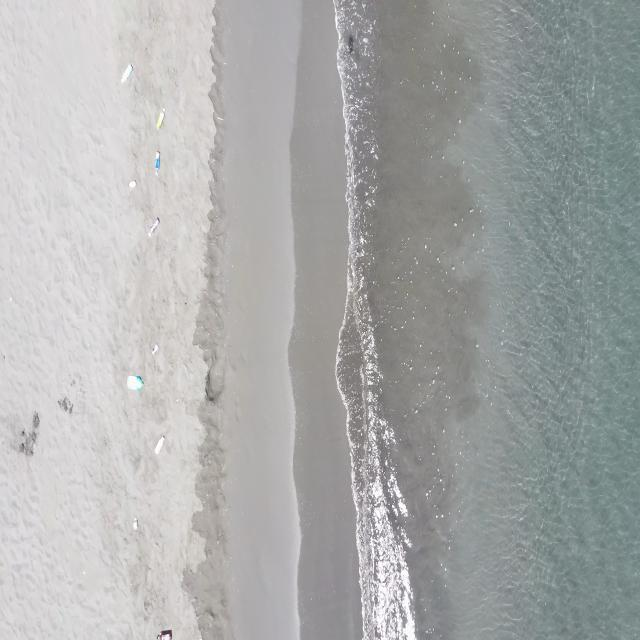plastic-bottle: (118, 64, 133, 85), (154, 106, 166, 132), (127, 374, 144, 392), (148, 216, 160, 238), (154, 435, 166, 456), (155, 628, 173, 640), (154, 150, 161, 178), (150, 344, 160, 356), (132, 516, 139, 532), (128, 180, 137, 189)
